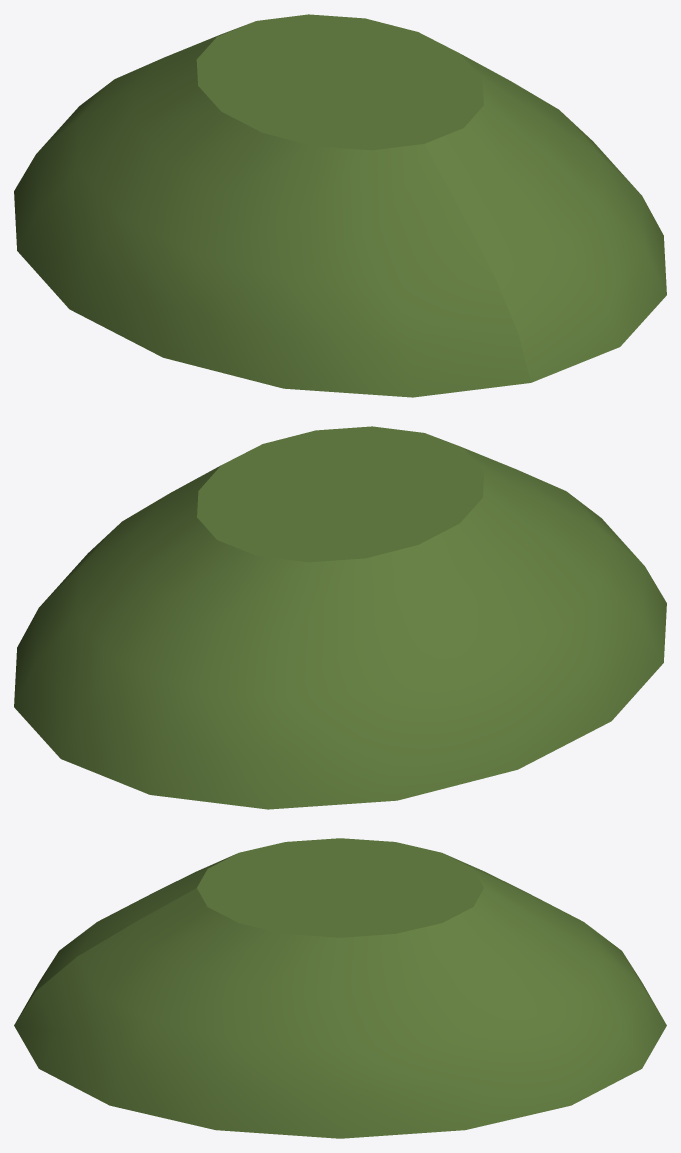
File: meso-laventa-c1-ruin.glb
The picture shows the model from 3 angles, top to bottom: view 1: azimuth 30°, elevation 25°; view 2: azimuth 150°, elevation 25°; view 3: azimuth 270°, elevation 25°; orthographic projection. The views are drawn at different scales.
Parts seen in each view (by area): view 1: meso-mound; view 2: meso-mound; view 3: meso-mound.
Boxes of the visible parts, left/top/right/bottom form: meso-mound: left=14, top=14, right=666, bottom=397; meso-mound: left=14, top=426, right=666, bottom=809; meso-mound: left=14, top=838, right=666, bottom=1138.
Bounding box in the file's own units: 120 × 33.97 × 146.
